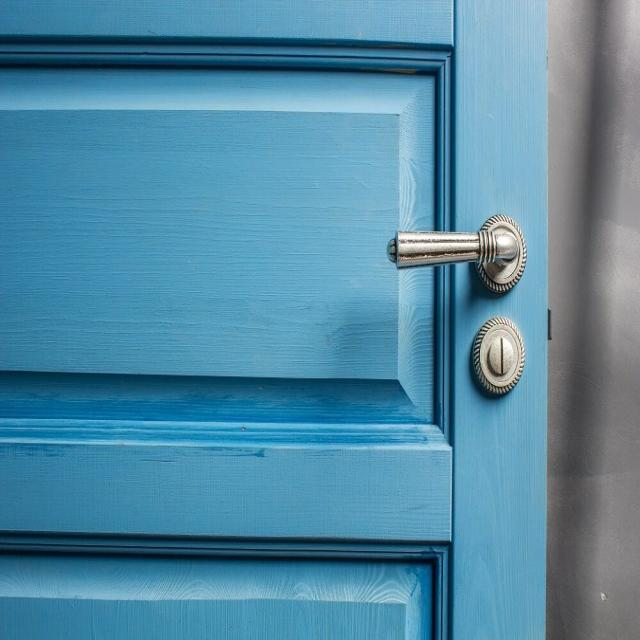door-handle: (390, 215, 526, 293)
